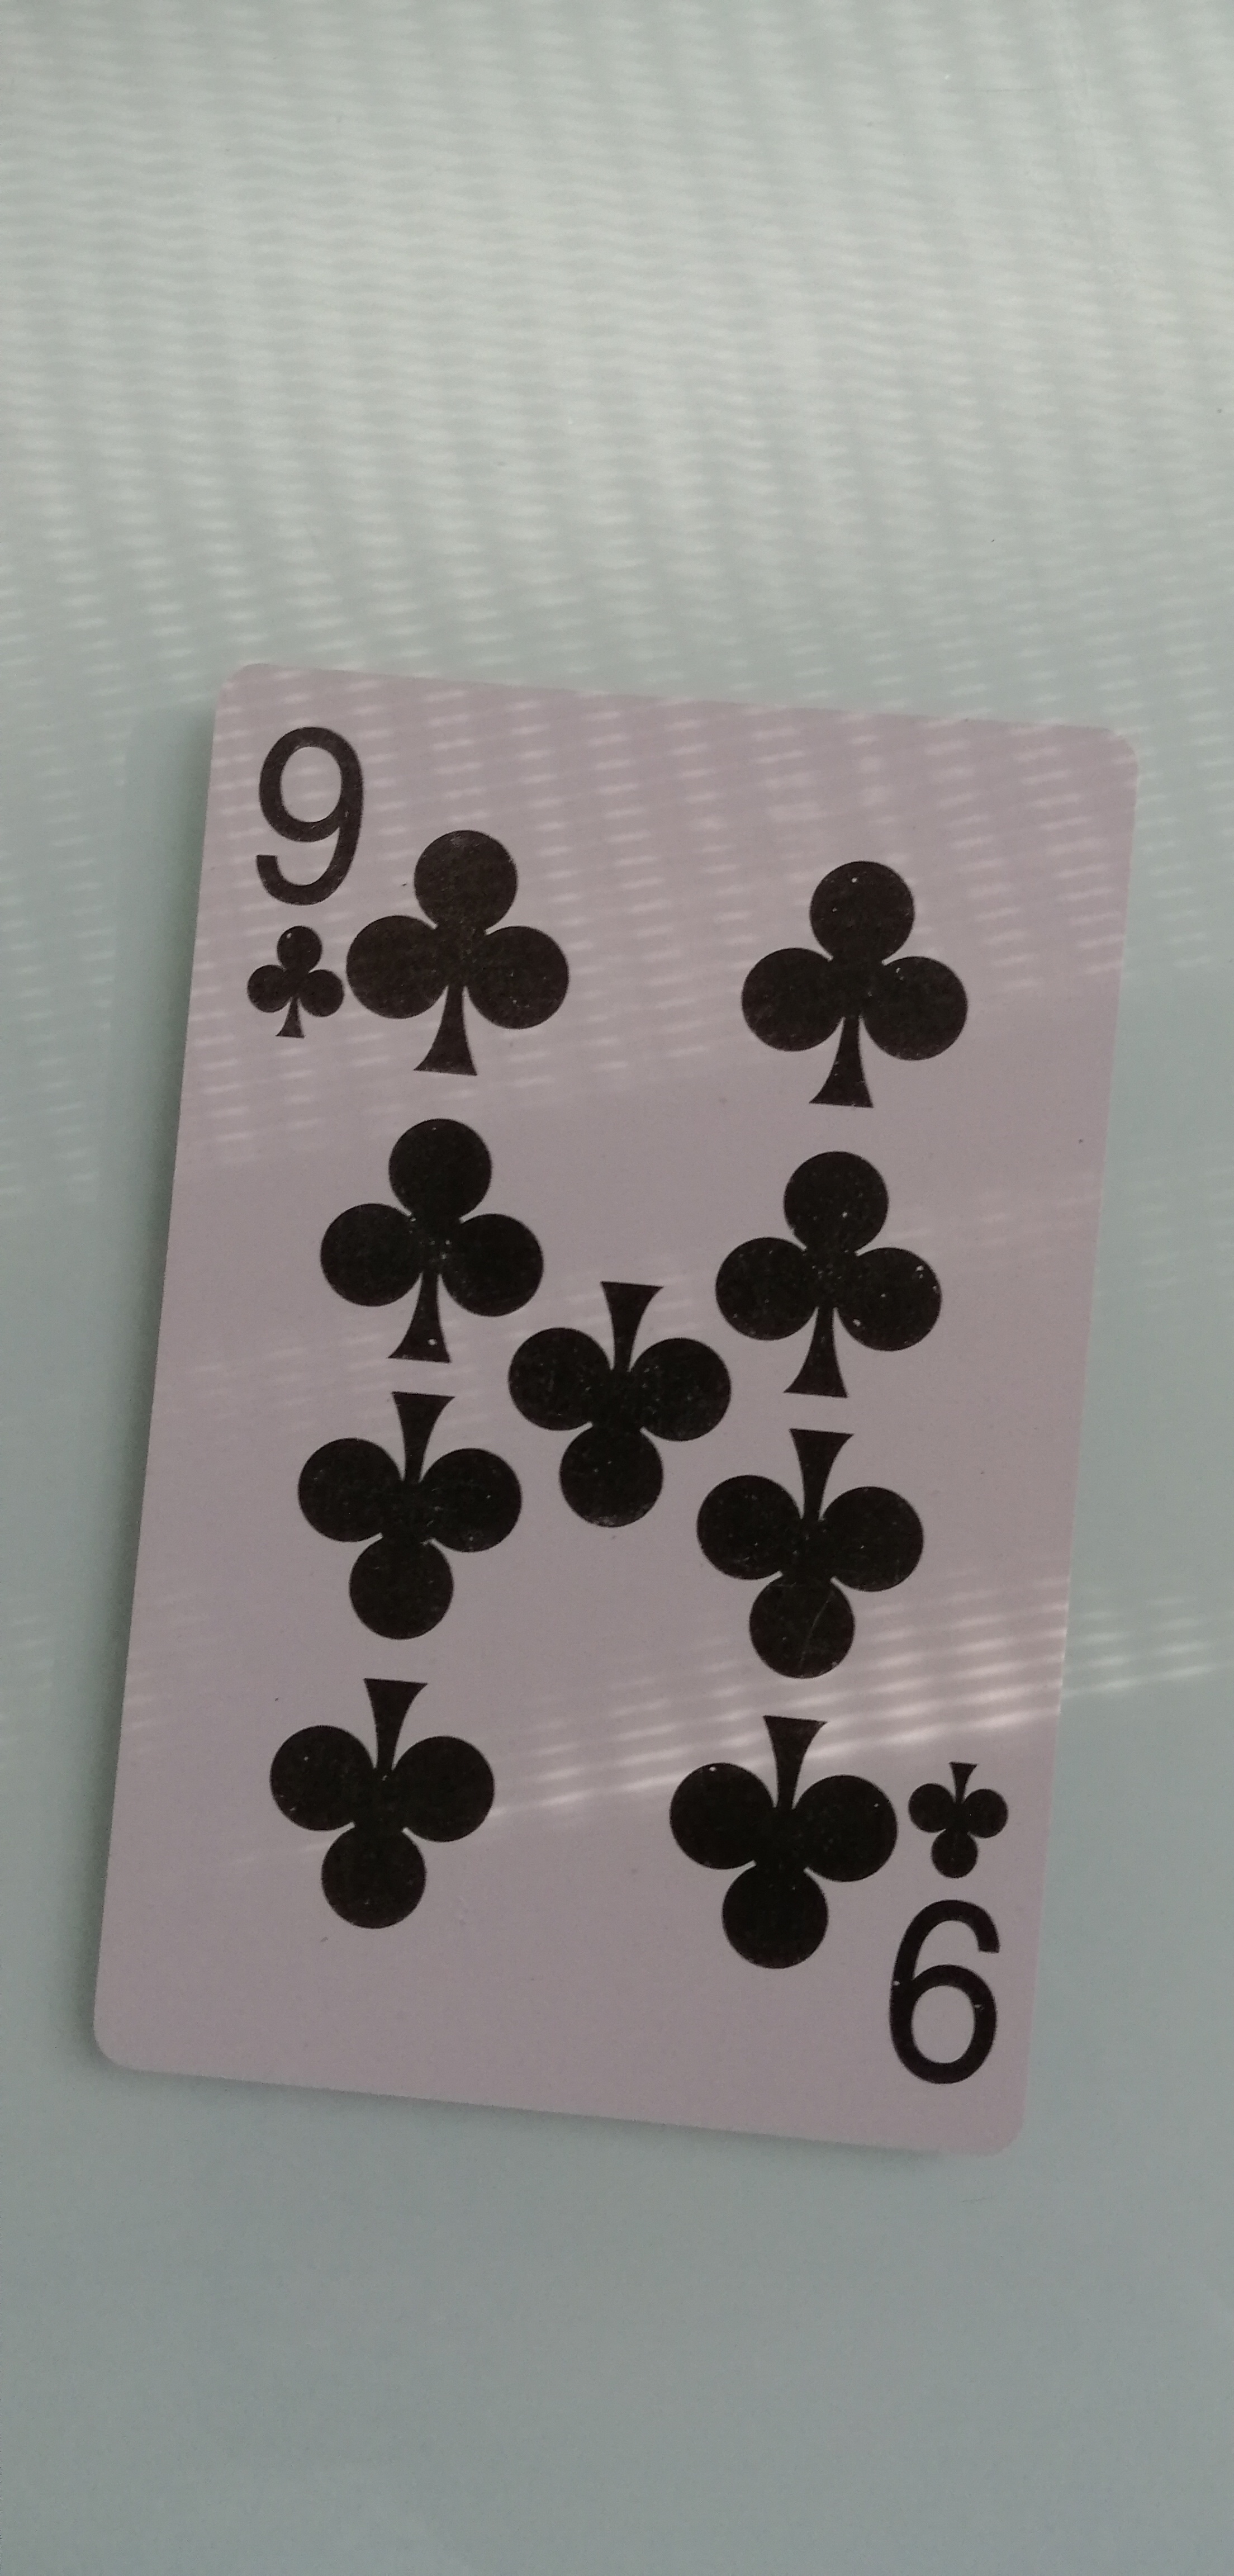nine: (48, 641, 1152, 2196)
